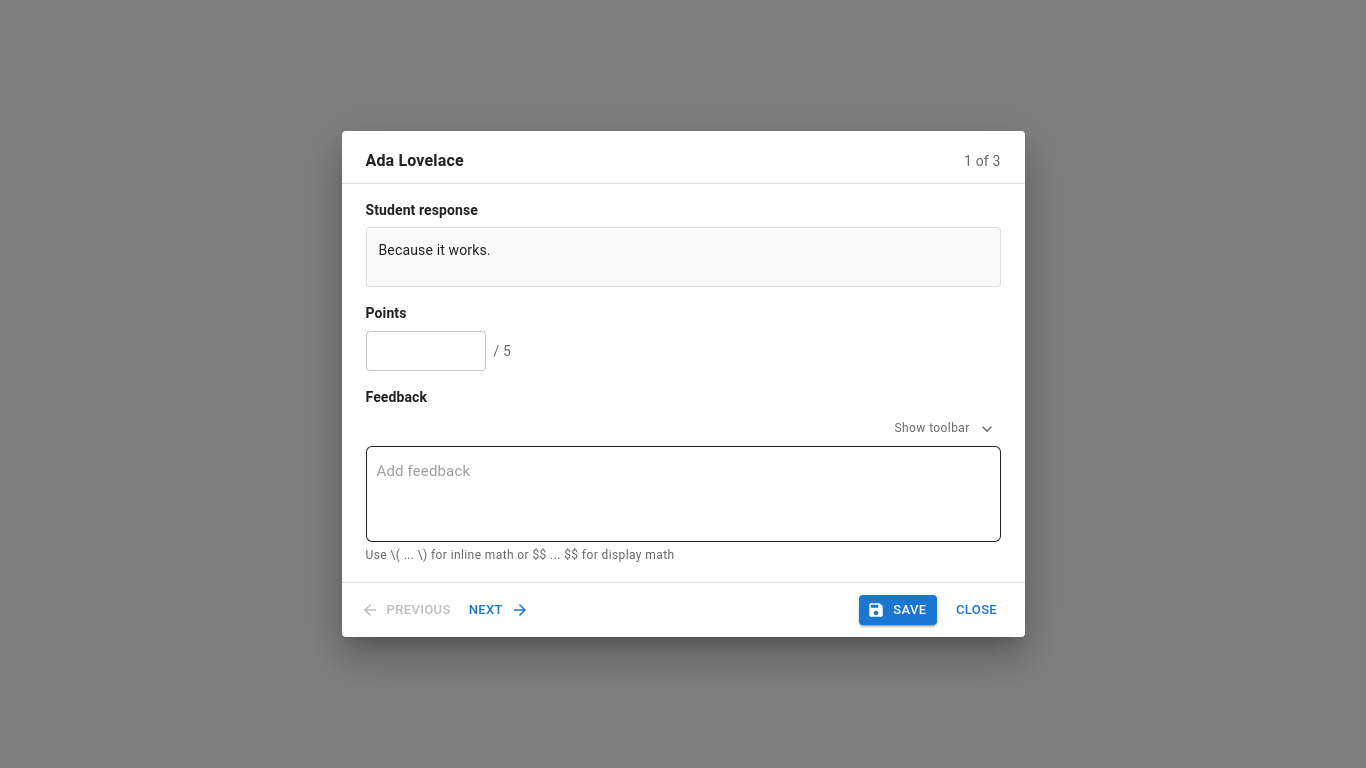
Test: SpeedGradingModal › navigates to next student when Next is clicked
Expected: the text "Ada Lovelace" is shown, [366,146,464,174]
Expected: the text "1 of 3" is shown, [964,150,1000,170]
Click the button "Next": (498, 610) [464,595,532,626]
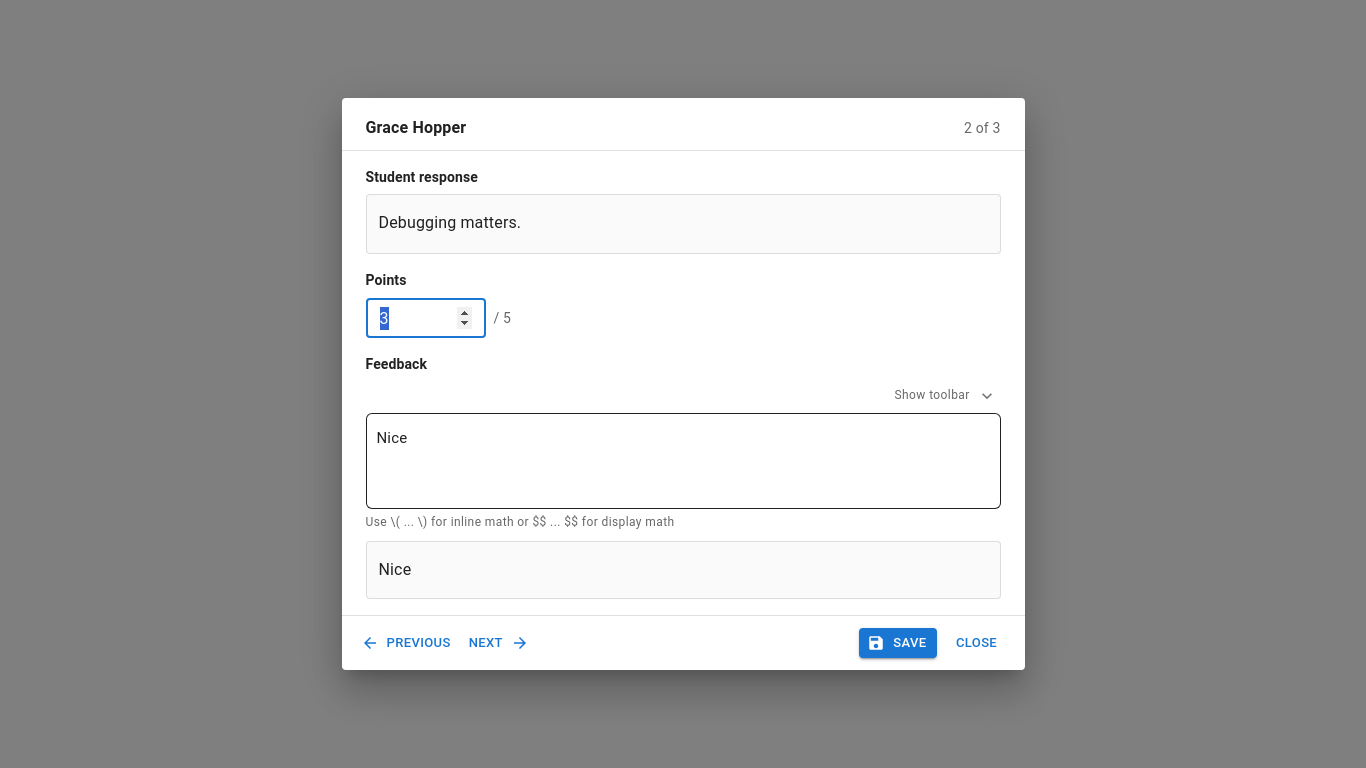
Expected: the text "Grace Hopper" is shown, [366,114,466,142]
Expected: the text "2 of 3" is shown, [964,118,1000,138]
